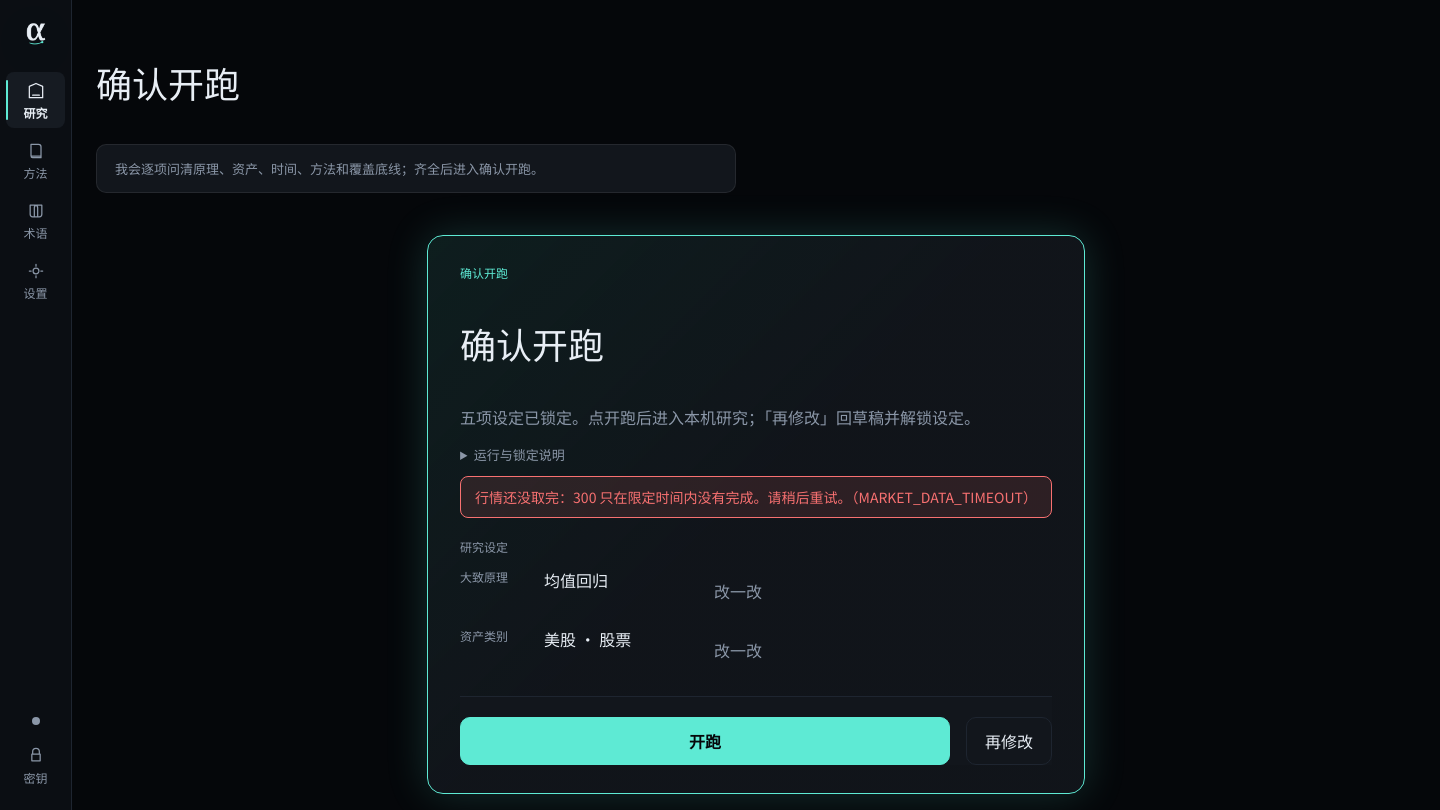
Test case: confirm run race › re-enables 开跑 after confirmRun fails
(page scrolled)
Click the button with test id "confirm-run-start": point(705, 741) [460,717,950,765]
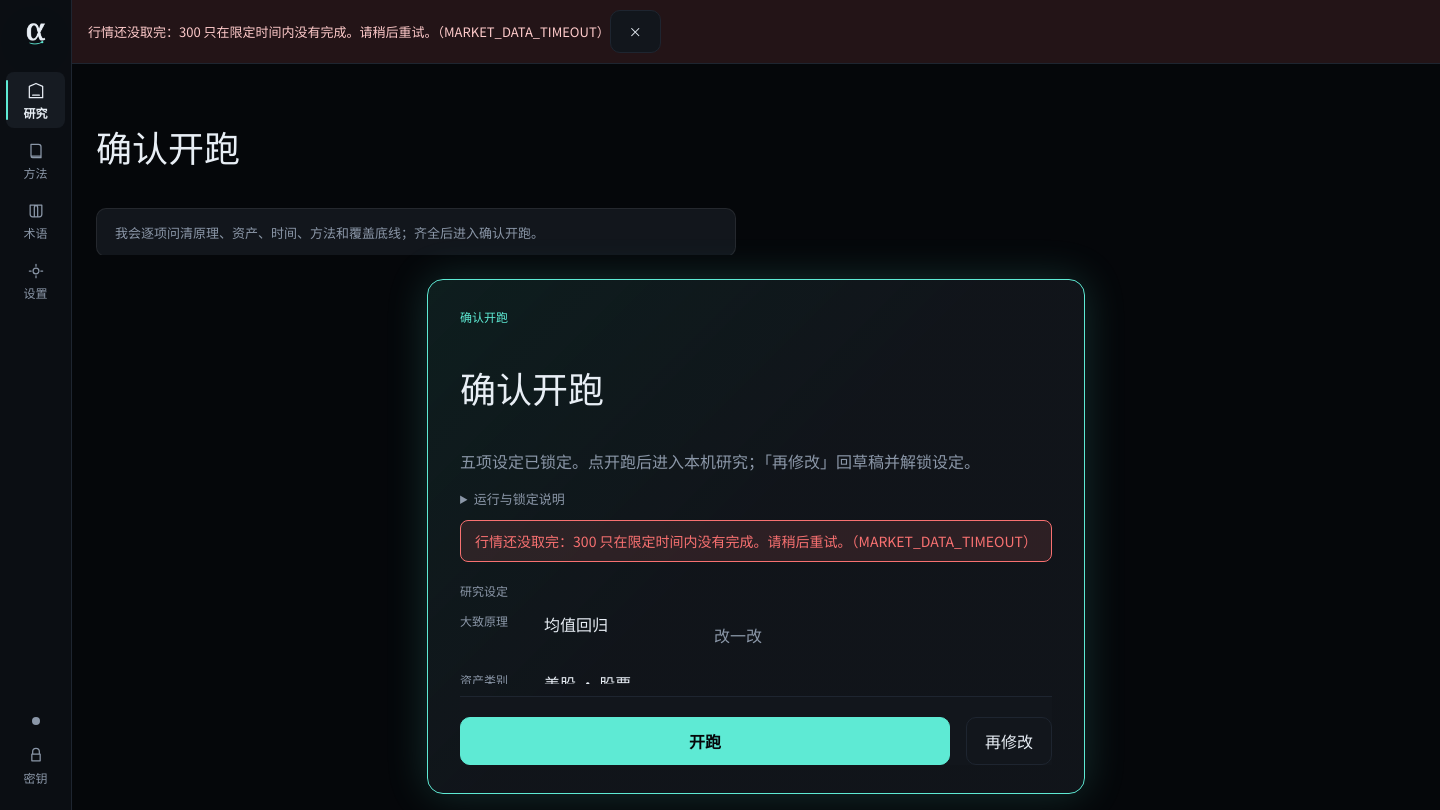
Check: the message with test id "confirm-data-notice" shows "MARKET_DATA_TIMEOUT", box [475,531,1037,551]
Check: the message with test id "mutation-error" shows "MARKET_DATA_TIMEOUT", box [88,22,610,41]
